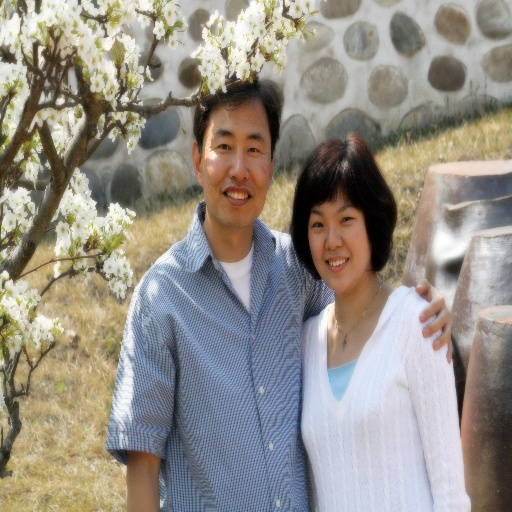hand: (424, 290, 457, 359)
